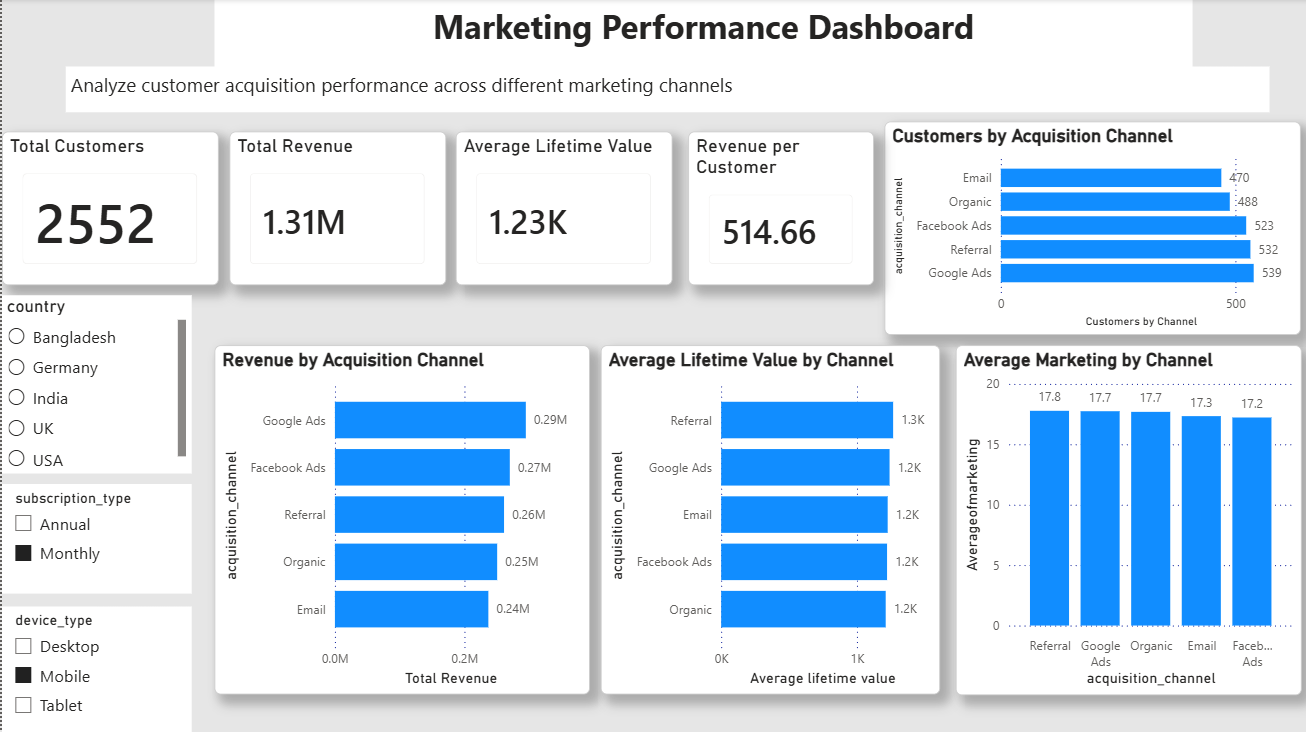

The dashboard page shown, as its layout file describes it:
{"tool":"powerbi","page":{"name":"Marketing Performance","canvas":[1280,720],"ordinal":2},"visuals":[{"type":"textbox","box":[207.7,0,956.5,75.1],"z":0},{"type":"textbox","box":[62.3,66,1177.9,44.8],"z":1000},{"type":"cardVisual","title":"Total Customers","fields":{"Data":["CRMdataset.Total Customers"]},"box":[0,129.8,211.8,150.3],"z":2000},{"type":"cardVisual","title":"Total Revenue","fields":{"Data":["CRMdataset.Total Revenue"]},"box":[222.7,129.8,211.8,150.3],"z":3000},{"type":"cardVisual","title":"Average Lifetime Value","fields":{"Data":["CRMdataset.Average lifetime value"]},"box":[444.1,129.8,211.8,150.3],"z":4000},{"type":"clusteredBarChart","title":"Customers by Acquisition Channel","fields":{"Category":["CRMdataset.acquisition_channel"],"Y":["CRMdataset.Customers by Channel"]},"box":[863.5,120.2,407.2,209.1],"z":5000},{"type":"clusteredBarChart","title":"Revenue by Acquisition Channel","fields":{"Category":["CRMdataset.acquisition_channel"],"Y":["CRMdataset.Total Revenue"]},"box":[207.7,338.9,367.6,341.6],"z":6000},{"type":"clusteredBarChart","title":"Average Lifetime Value by Channel","fields":{"Category":["CRMdataset.acquisition_channel"],"Y":["CRMdataset.Average lifetime value"]},"box":[586.2,338.9,332,341.6],"z":7000},{"type":"slicer","fields":{"Values":["CRMdataset.subscription_type"]},"box":[0,474.4,185.5,107.1],"z":9000},{"type":"slicer","fields":{"Values":["CRMdataset.device_type"]},"box":[0,593.9,185.5,125.8],"z":10000},{"type":"cardVisual","title":"Revenue per Customer","fields":{"Data":["CRMdataset.Revenue per Customer"]},"box":[670.9,129.8,181.7,150.3],"z":11000},{"type":"columnChart","title":"Average Marketing by Channel","fields":{"Y":["CRMdataset.Averageofmarketing"],"Category":["CRMdataset.acquisition_channel"]},"box":[933,339,338,342],"z":12000},{"type":"listSlicer","fields":{"Values":["CRMdataset.country"]},"box":[0,290.1,185.5,174.3],"z":12001}]}

Visuals, with their boxes in screenshot pixels (x1, y1, x2, y2), scaled from the page's 1280x720 canvas onto the 1306x732 screenshot:
textbox: region(212, 0, 1188, 76)
textbox: region(64, 67, 1265, 113)
"Total Customers" cardVisual: region(0, 132, 216, 285)
"Total Revenue" cardVisual: region(227, 132, 443, 285)
"Average Lifetime Value" cardVisual: region(453, 132, 669, 285)
"Customers by Acquisition Channel" clusteredBarChart: region(881, 122, 1297, 335)
"Revenue by Acquisition Channel" clusteredBarChart: region(212, 345, 587, 692)
"Average Lifetime Value by Channel" clusteredBarChart: region(598, 345, 937, 692)
slicer - CRMdataset.subscription_type: region(0, 482, 189, 591)
slicer - CRMdataset.device_type: region(0, 604, 189, 731)
"Revenue per Customer" cardVisual: region(685, 132, 870, 285)
"Average Marketing by Channel" columnChart: region(952, 345, 1297, 692)
listSlicer - CRMdataset.country: region(0, 295, 189, 472)
